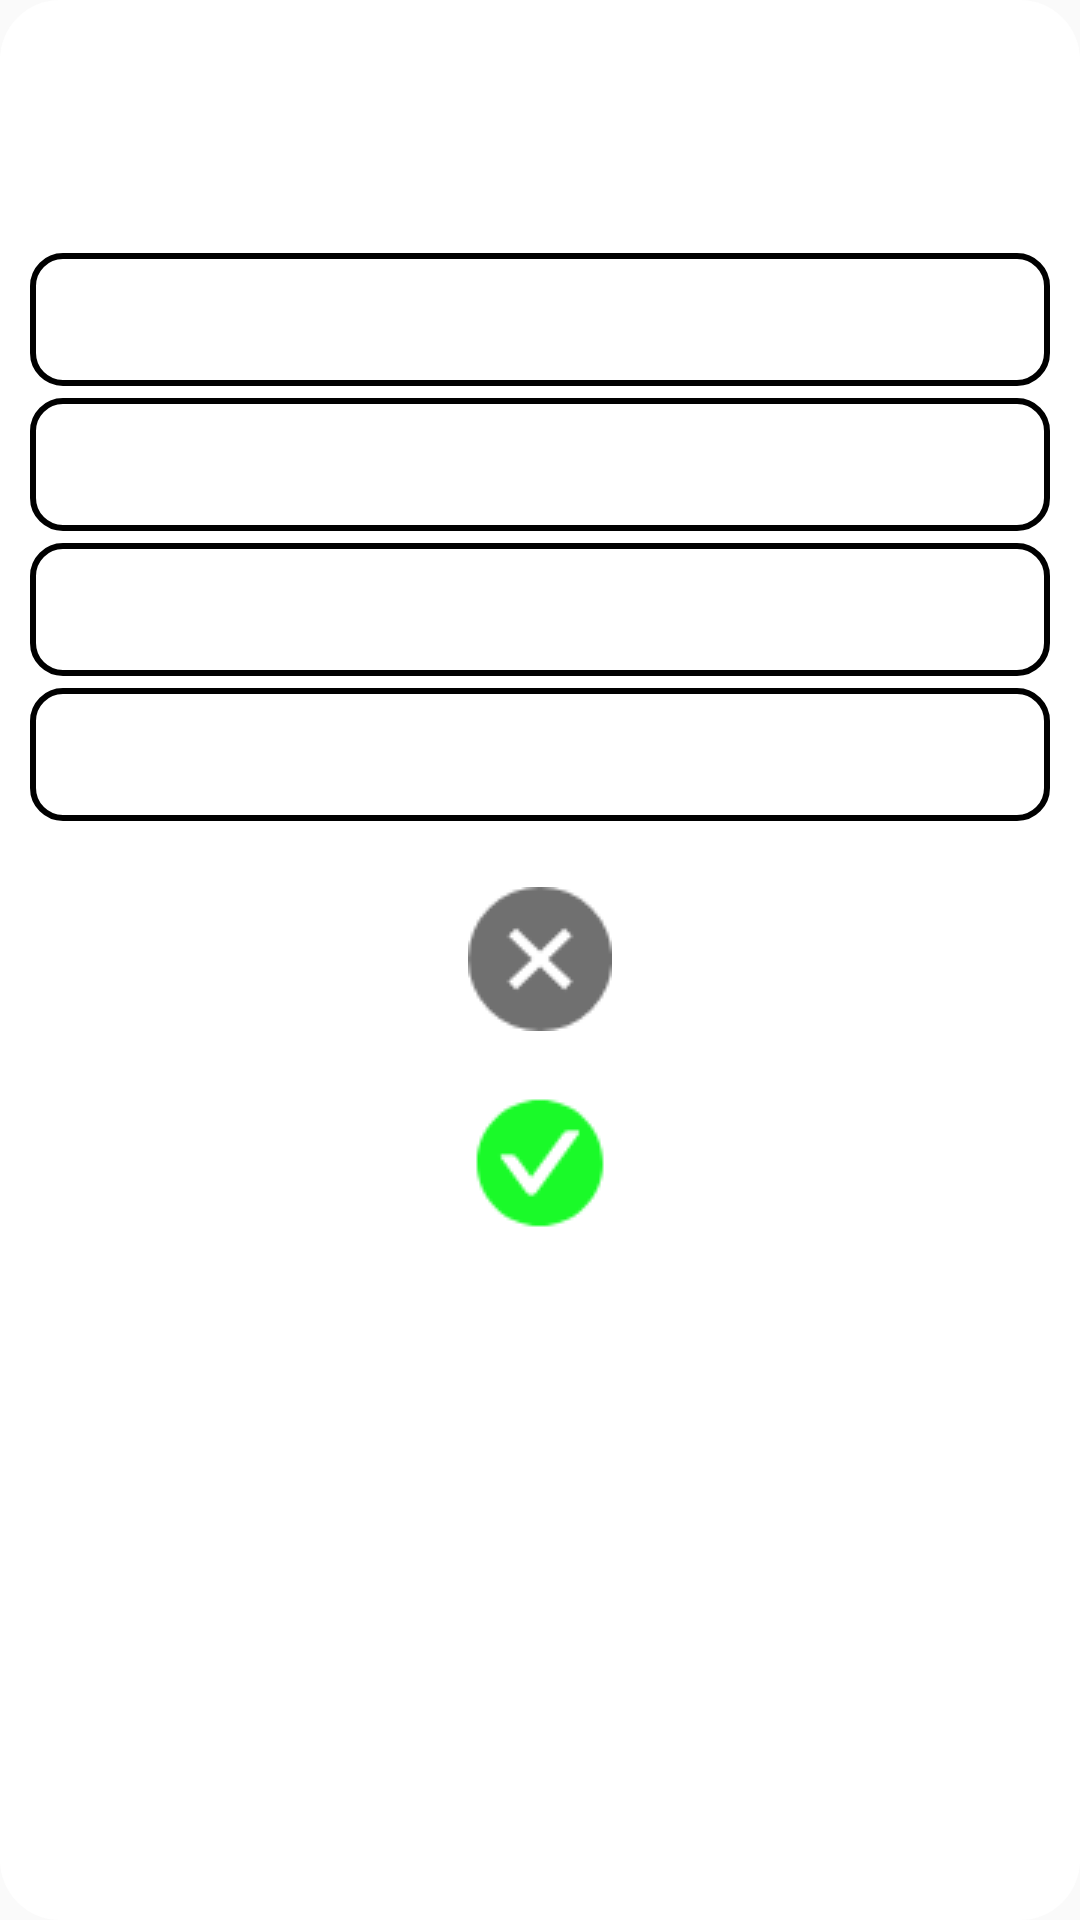

Where icons sit on this 1080w x 1920h app screen, as Rect(x1, y1, x2, y2):
check cancel: Rect(468, 887, 612, 1031)
check confirm: Rect(476, 1099, 604, 1227)
